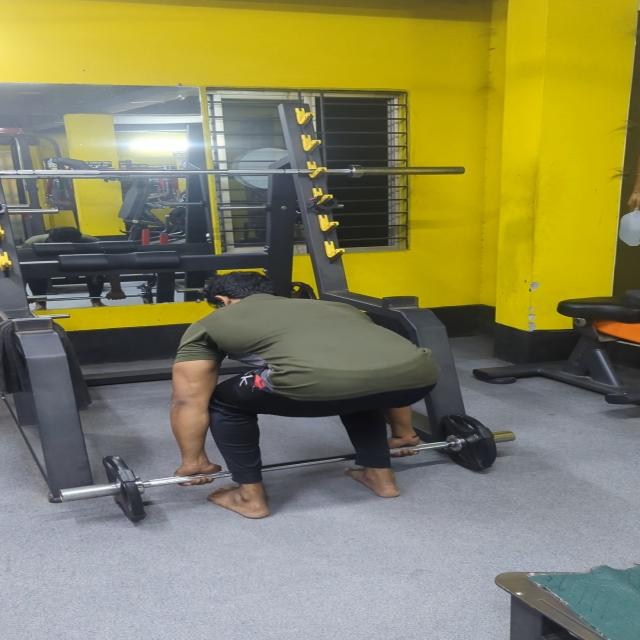Normal_Deadlifts: (87, 250, 561, 544)
